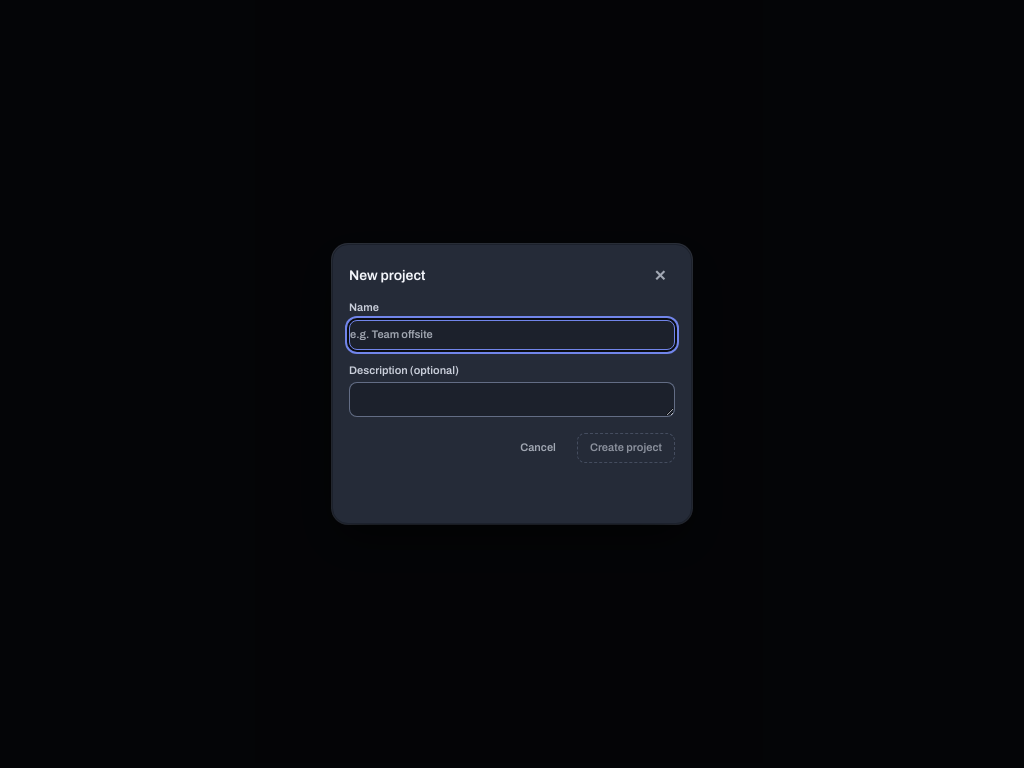
Test case: NewProjectModal › shows a plain creation error with the raw API message only in technical details
The width and height of the screenshot is (1024, 768).
Type "api migration" into the field with test id "new-project-name" at (512, 334), box [349,320,675,350]
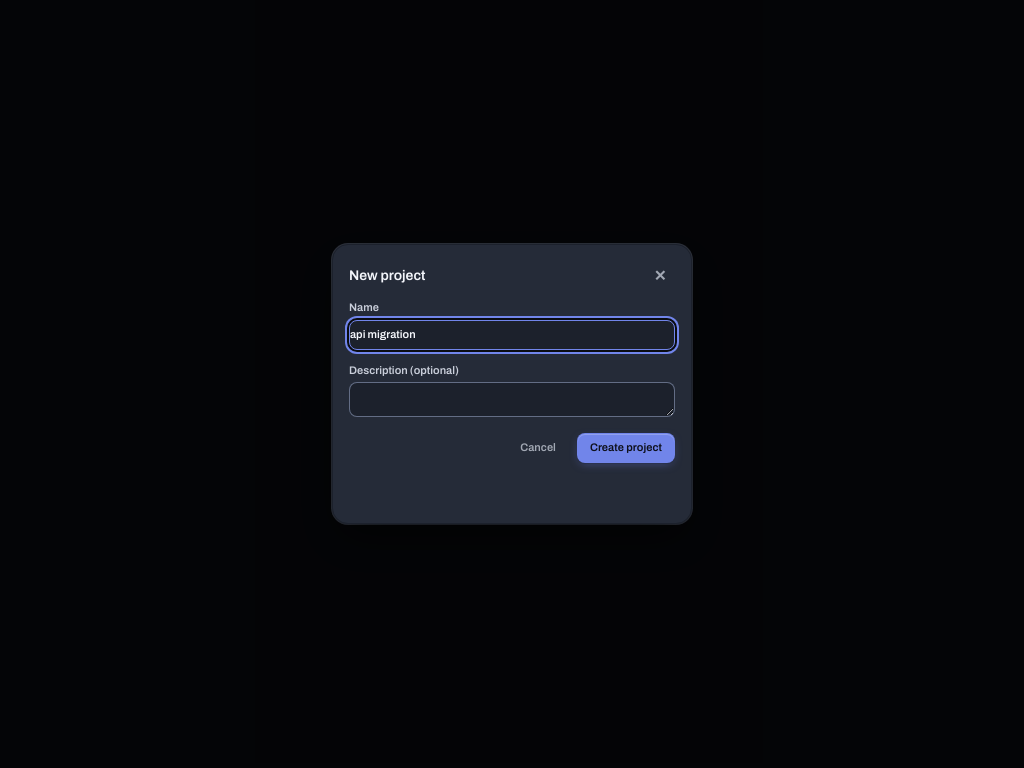
Click the button with test id "new-project-create" at (626, 448), box [577,433,675,463]
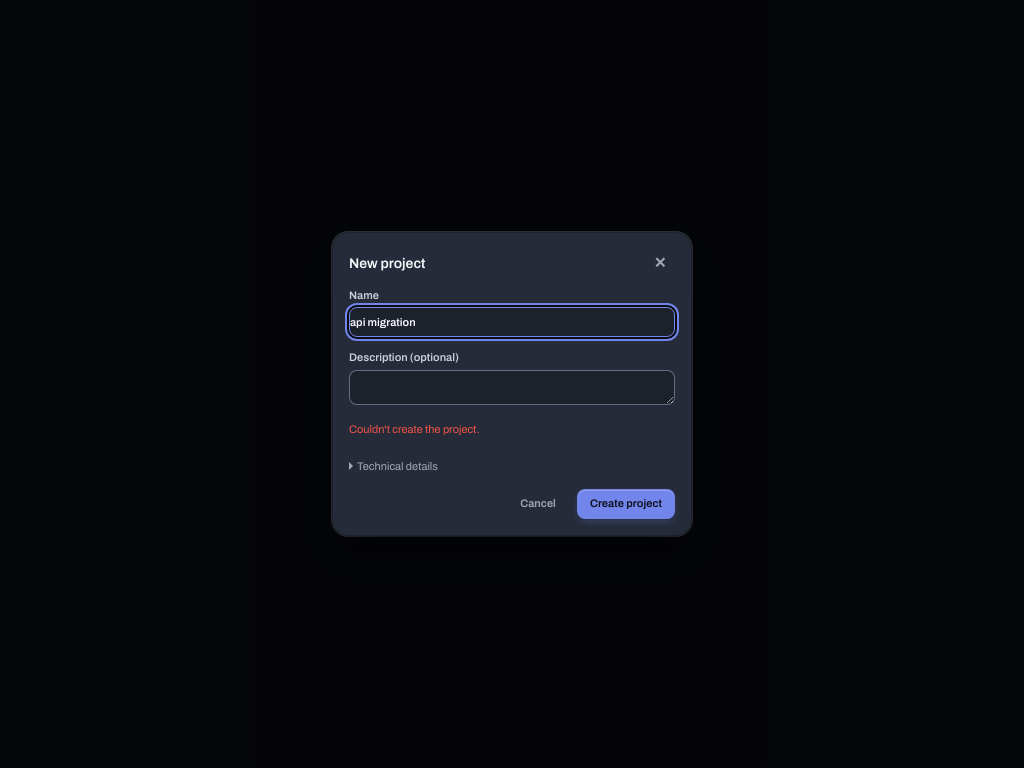
Expected: the text with test id "new-project-error" does not show "API 409: name collides with an active project", [349,423,479,435]
Expected: the text with test id "new-project-error" reads "Couldn't create the project.", [349,423,479,435]
